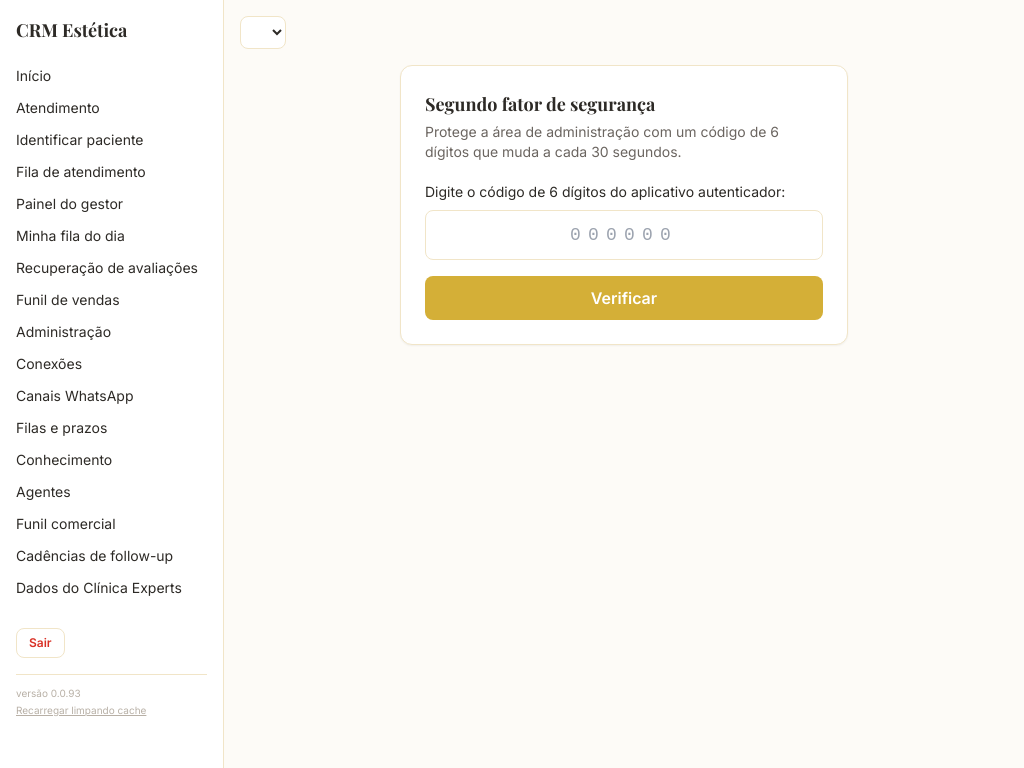
SegundoFator › verify bem-sucedido persiste a nova sessão (AAL2) com setSession
Type "123456" into the field named "Código do autenticador" at point(624, 235), box [425, 210, 823, 260]
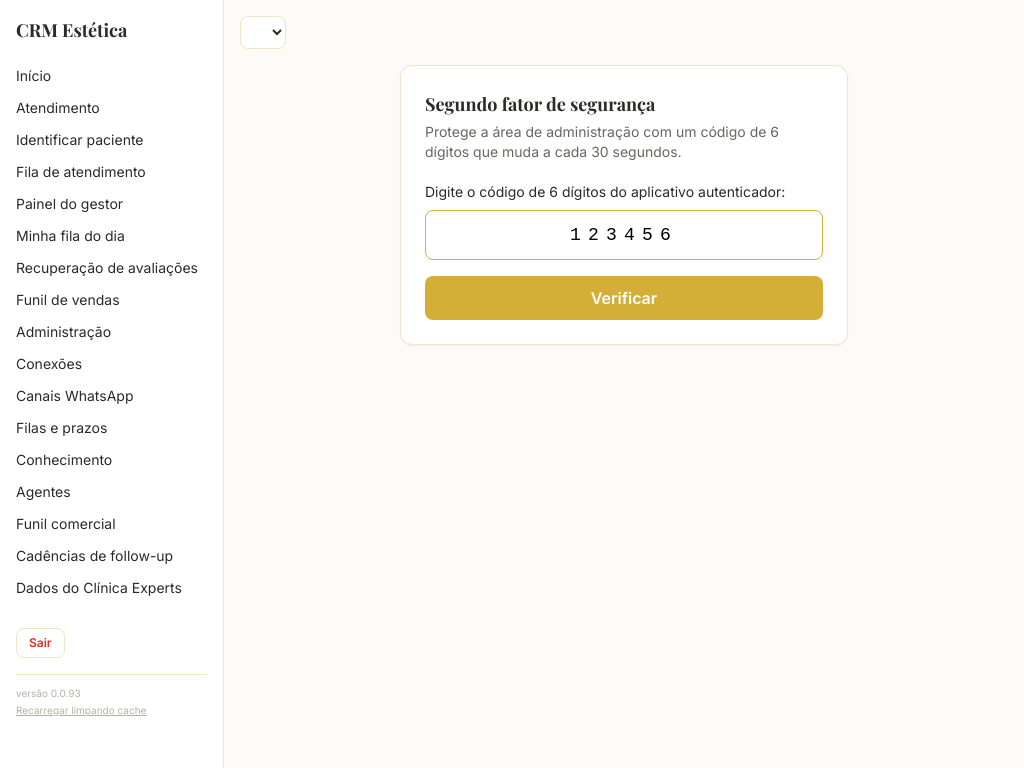
Click the button "Verificar" at point(624, 298), box [425, 276, 823, 320]
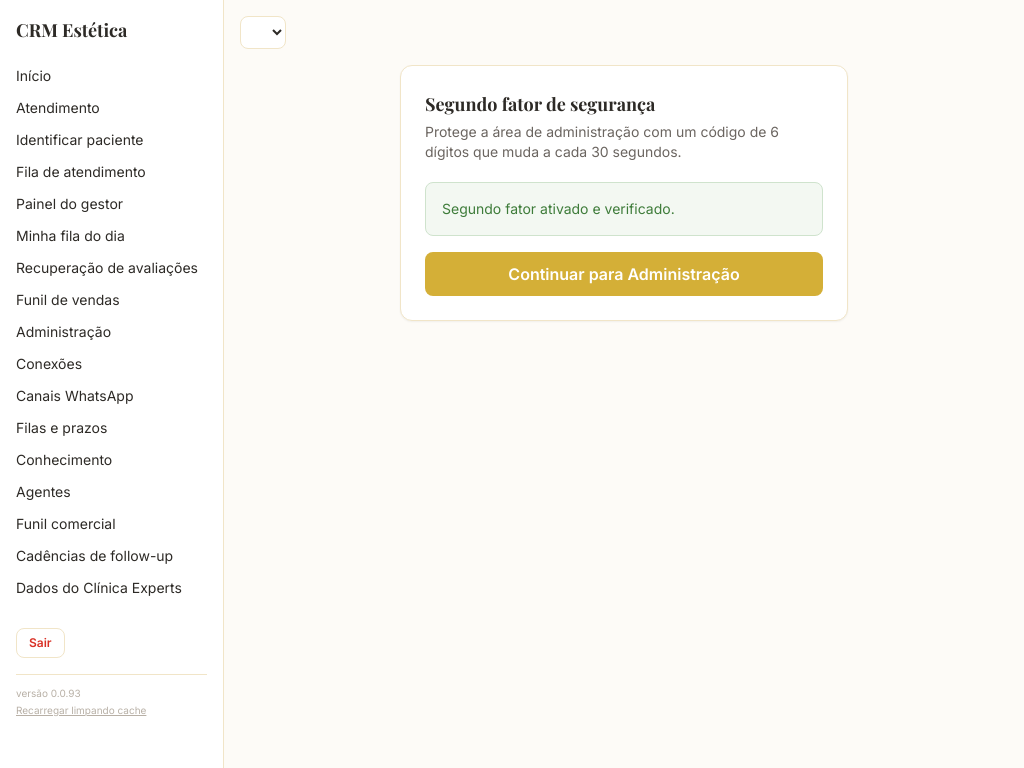
Expected: the text "Segundo fator ativado e verificado." is shown, [425, 182, 823, 236]
